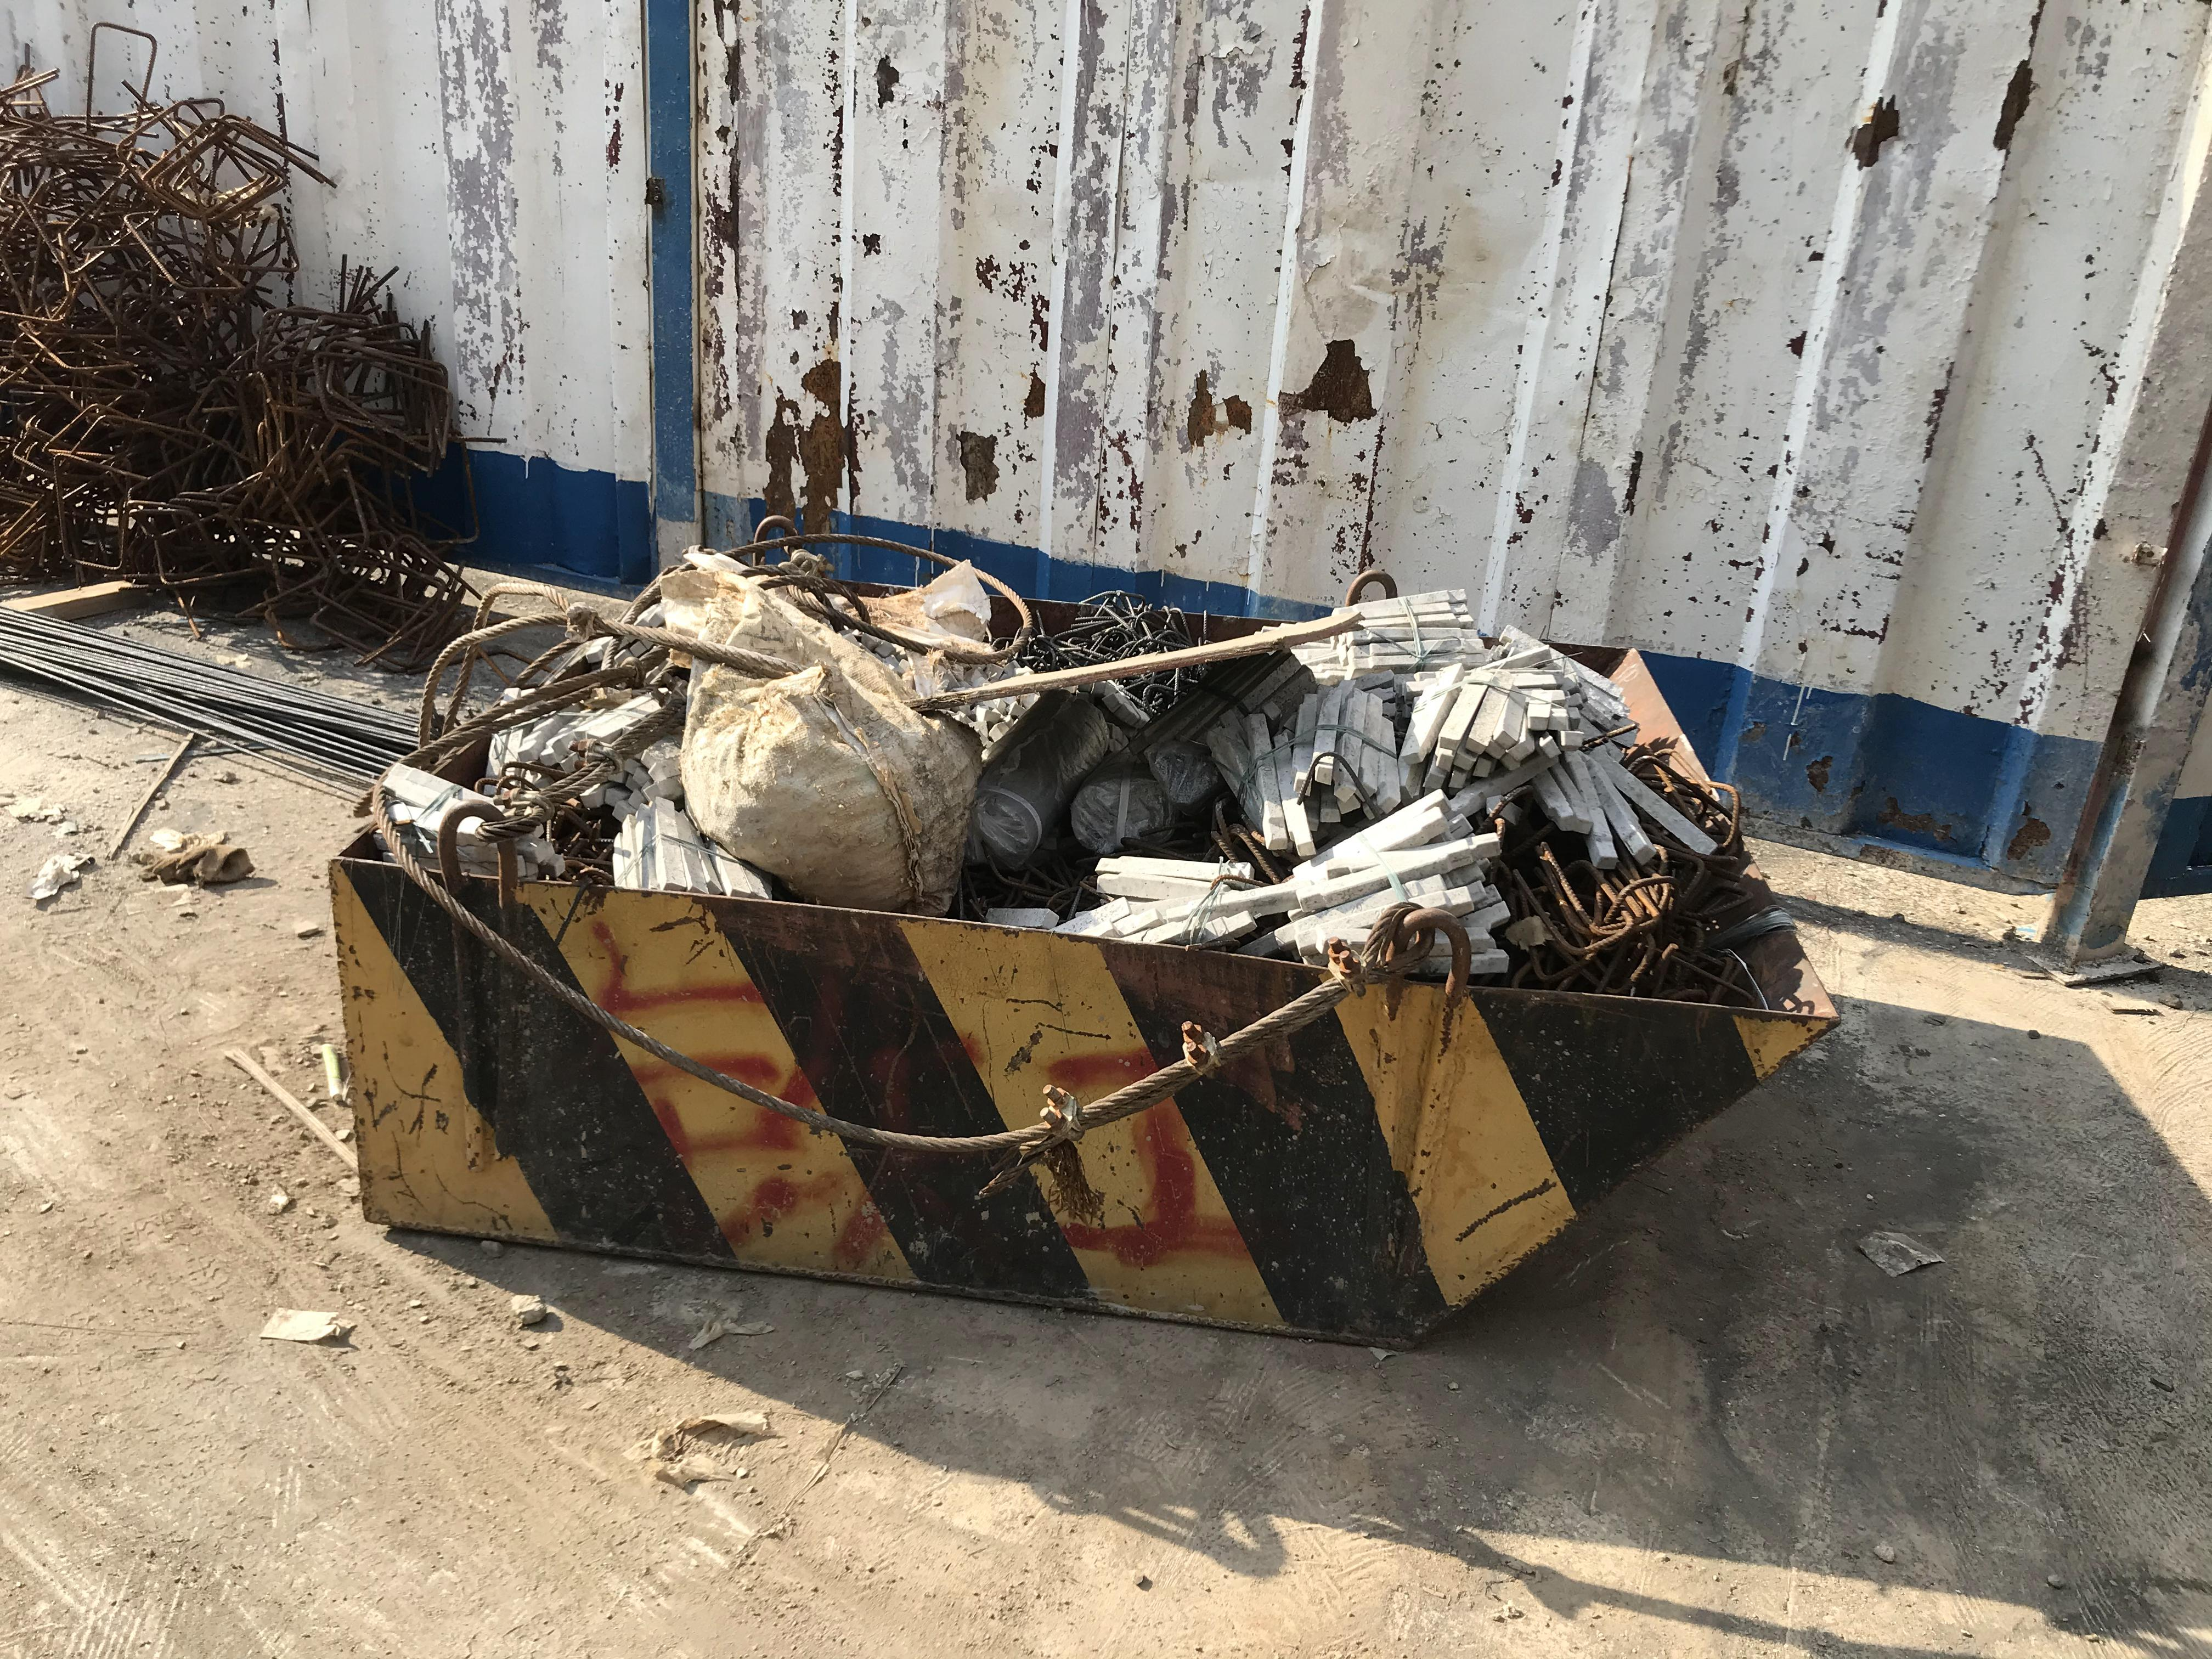hopper: (291, 519, 1862, 1377)
